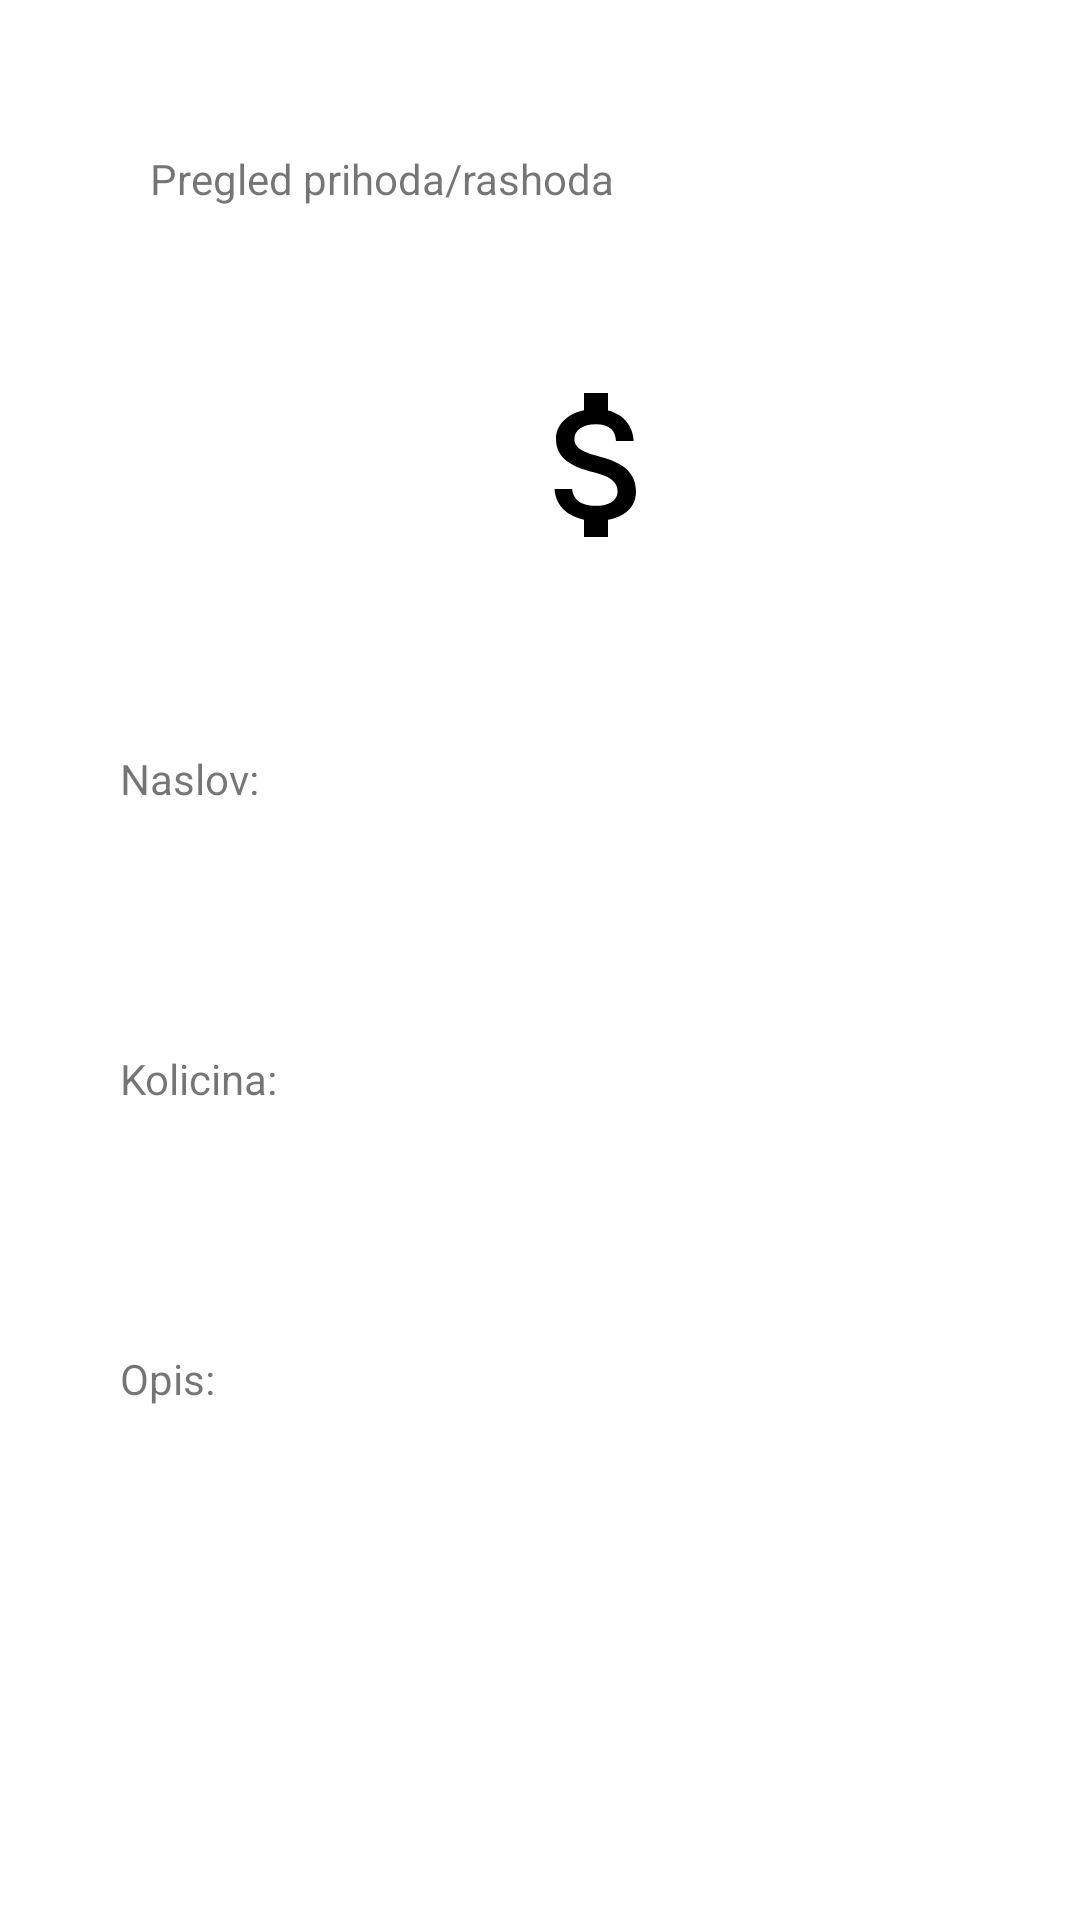

Icon bounding boxes for this 1080px x 1920px phone screenshot, format (x1, y1, x2, y2):
bigmoney: (554, 393, 636, 537)
